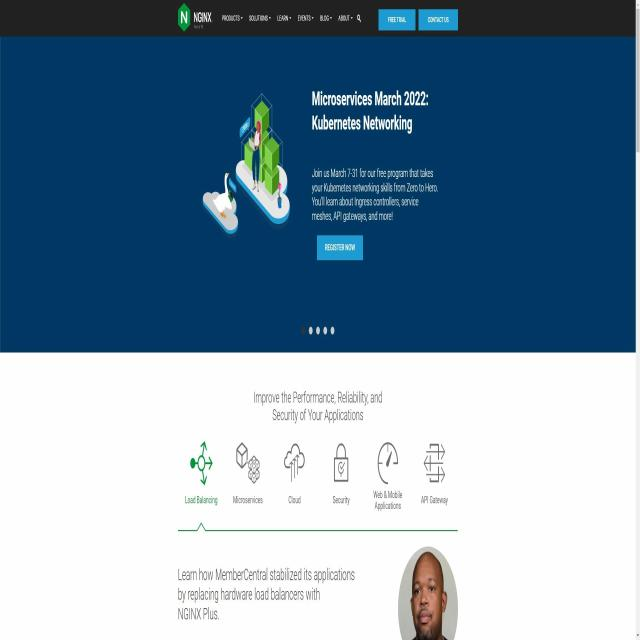button: (316, 236, 364, 262), (418, 8, 458, 30), (379, 8, 416, 31)
select: (220, 9, 244, 27), (247, 11, 273, 27), (297, 9, 315, 27), (277, 9, 293, 27), (318, 9, 334, 26), (337, 11, 354, 25)
